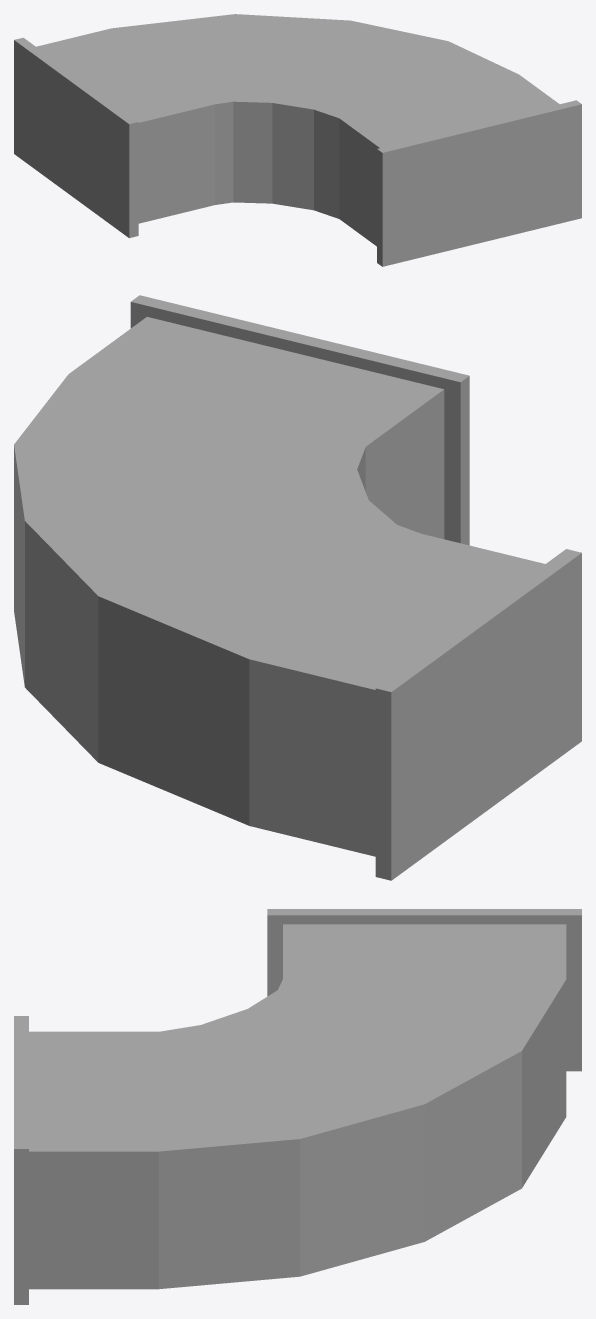
The model's file is Prop_ACVent_Cornor.fbx.
3 renders of one model, top to bottom at view 1: azimuth 30°, elevation 25°; view 2: azimuth 150°, elevation 25°; view 3: azimuth 270°, elevation 25°, orthographic. The views are drawn at different scales.
Parts seen in each view (by area): view 1: Prop_ACVent_Cornor; view 2: Prop_ACVent_Cornor; view 3: Prop_ACVent_Cornor.
Part boxes in pixels (x1,y1,x2,y2): Prop_ACVent_Cornor: [14, 14, 581, 266]; Prop_ACVent_Cornor: [14, 295, 581, 880]; Prop_ACVent_Cornor: [14, 909, 581, 1304].
Bounding box in the file's own units: 144 × 43.45 × 144.
